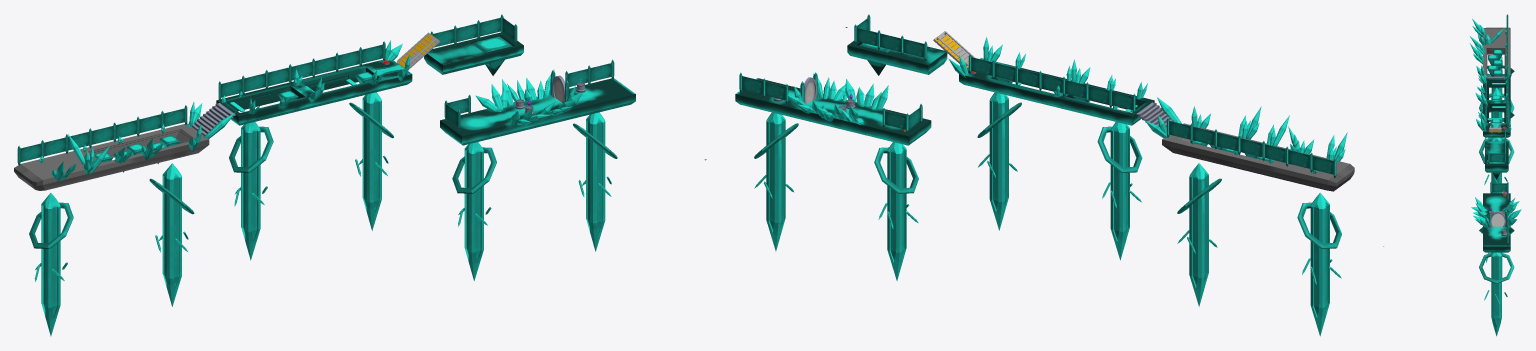
3 renders of one model, left to right at view 1: azimuth 30°, elevation 25°; view 2: azimuth 150°, elevation 25°; view 3: azimuth 270°, elevation 25°, orthographic. The views are drawn at different scales.
Visible parts, largest first — view 1: Cube.022, Cube.045, Cube, Cylinder.026, Cylinder.002, Cylinder.117, Cylinder.078, Cylinder.112, Cylinder.073, Cube.026, Torus.005, Torus (+4 smaller); view 2: Cube.045, Cube, Cube.022, Cylinder.026, Cylinder.002, Cylinder.117, Cylinder.078, Cylinder.112, Cylinder.073, Cube.026, Torus.005, Torus.002 (+3 smaller); view 3: Cube.045, Cube.022, Cube, Cylinder.117, Cube.026, Torus.006, Torus.003, Cylinder.078, Cylinder.093, Cube.054, Cube.057.
Part boxes in pixels (x1=…): Cube.022: x1=216, y1=60, x2=412, y2=125; Cube.045: x1=440, y1=78, x2=706, y2=160; Cube: x1=14, y1=123, x2=209, y2=190; Cylinder.026: x1=162, y1=163, x2=181, y2=306; Cylinder.002: x1=41, y1=193, x2=60, y2=336; Cylinder.117: x1=586, y1=112, x2=605, y2=251; Cylinder.078: x1=362, y1=92, x2=381, y2=230; Cylinder.112: x1=464, y1=142, x2=483, y2=280; Cylinder.073: x1=241, y1=122, x2=260, y2=260; Cube.026: x1=424, y1=32, x2=523, y2=74; Torus.005: x1=452, y1=147, x2=496, y2=193; Torus: x1=29, y1=202, x2=73, y2=248; Cube.045: x1=735, y1=27, x2=931, y2=145; Cube: x1=1162, y1=123, x2=1354, y2=191; Cube.022: x1=959, y1=58, x2=1154, y2=125; Cylinder.026: x1=1189, y1=163, x2=1208, y2=306; Cylinder.002: x1=1310, y1=192, x2=1329, y2=336; Cylinder.117: x1=766, y1=112, x2=785, y2=251; Cylinder.078: x1=989, y1=92, x2=1008, y2=230; Cylinder.112: x1=887, y1=142, x2=906, y2=280; Cylinder.073: x1=1110, y1=122, x2=1129, y2=260; Cube.026: x1=847, y1=41, x2=947, y2=74; Torus.005: x1=874, y1=147, x2=918, y2=193; Torus.002: x1=1097, y1=126, x2=1142, y2=172; Cube.045: x1=1383, y1=193, x2=1510, y2=252; Cube.022: x1=1483, y1=78, x2=1510, y2=137; Cube: x1=1483, y1=27, x2=1510, y2=76; Cylinder.117: x1=1491, y1=252, x2=1501, y2=336; Cube.026: x1=1485, y1=141, x2=1508, y2=172; Torus.006: x1=1479, y1=252, x2=1514, y2=283; Torus.003: x1=1479, y1=137, x2=1514, y2=163; Cylinder.078: x1=1491, y1=137, x2=1501, y2=193; Cylinder.093: x1=1491, y1=213, x2=1504, y2=226; Cube.054: x1=1489, y1=153, x2=1504, y2=161; Cube.057: x1=1492, y1=183, x2=1506, y2=191.
Bounding box in the file's own units: 69095 × 28337 × 22112.
